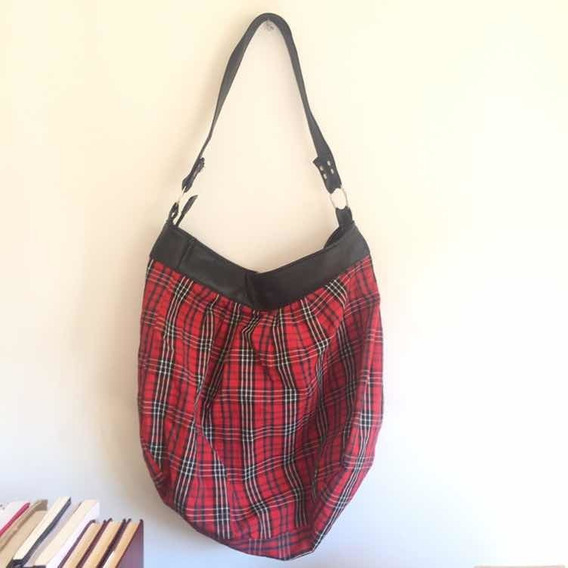cartera: (136, 12, 386, 562)
